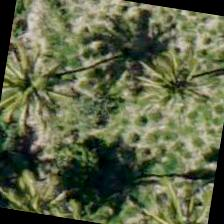Kelapa_Sawit: (0, 42, 82, 143)
